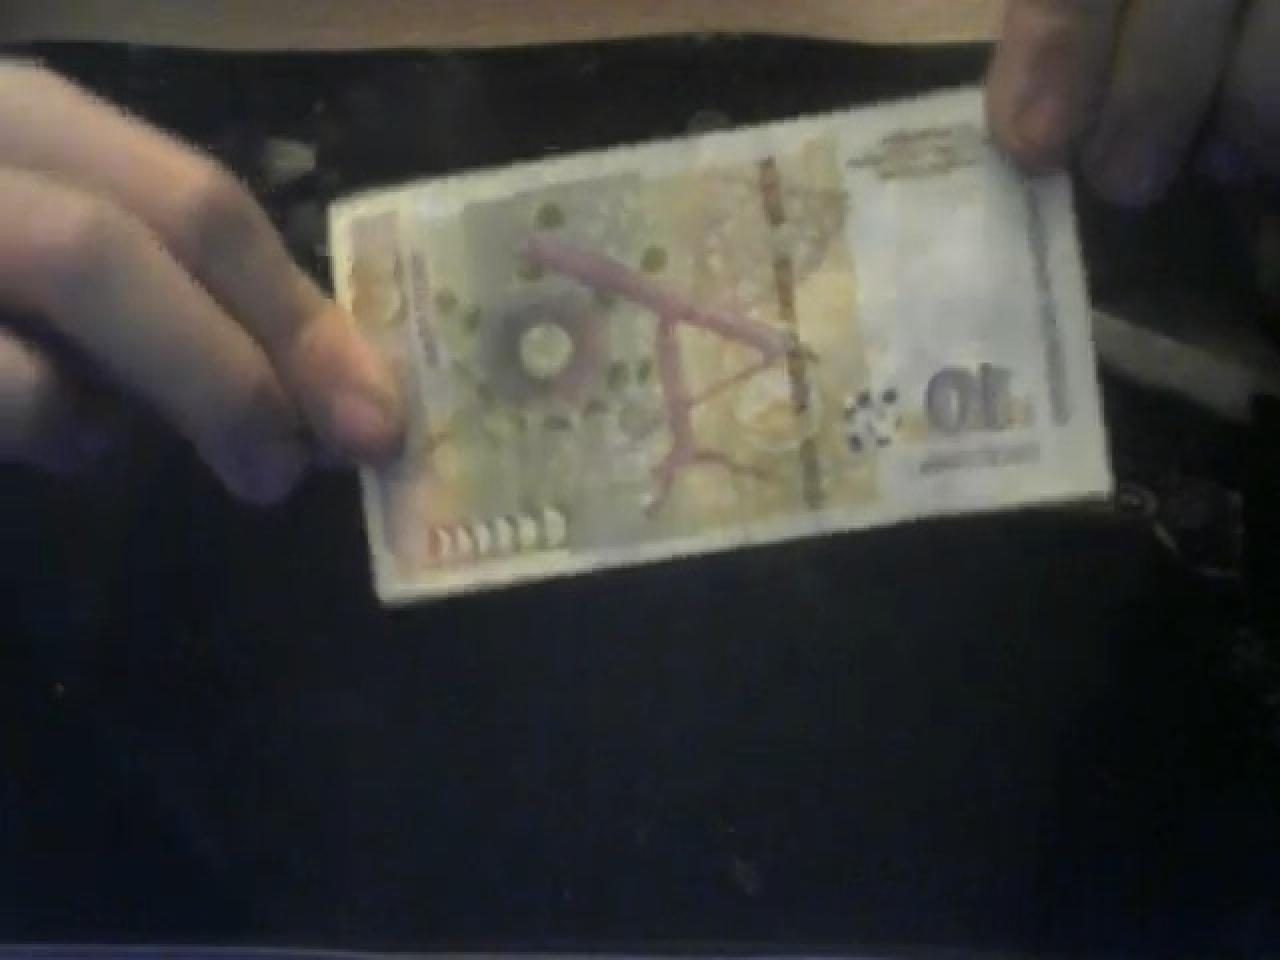10leva: (332, 94, 1104, 613)
